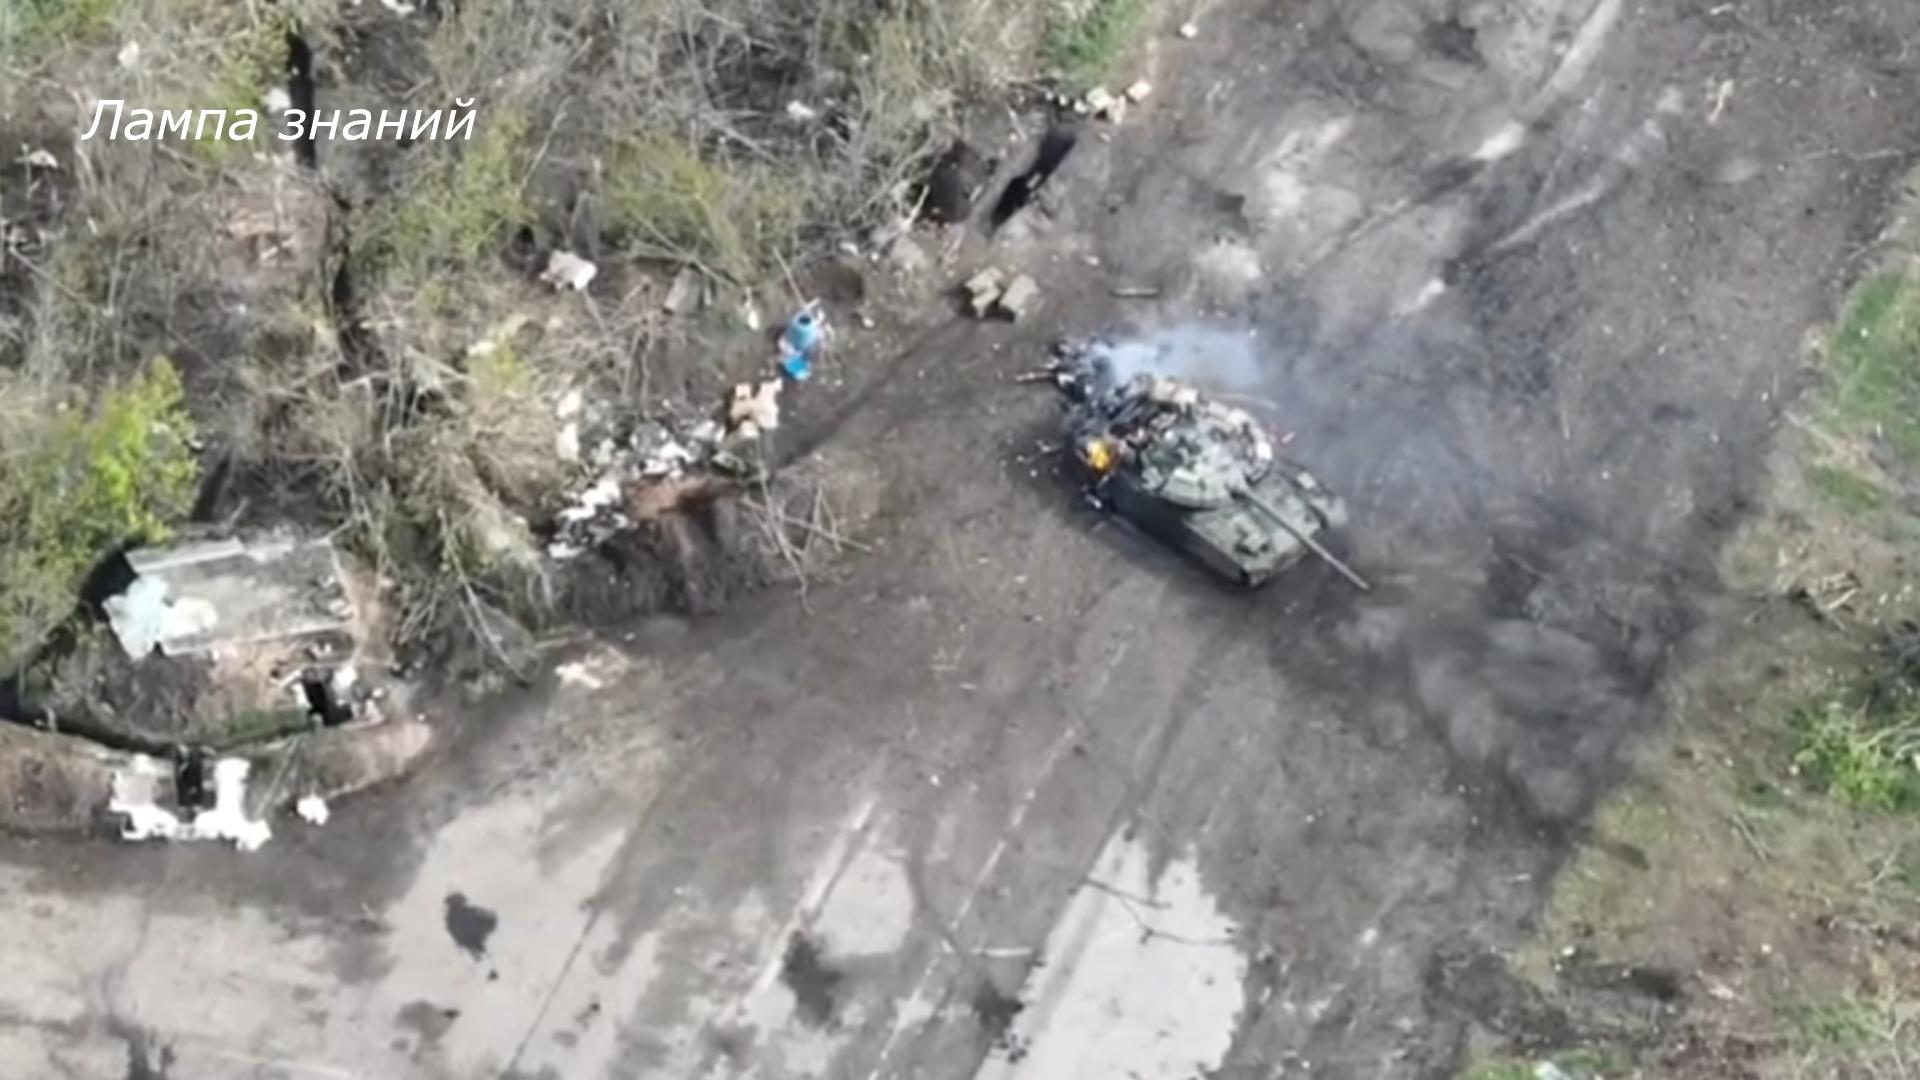tank: (1062, 372, 1371, 595)
